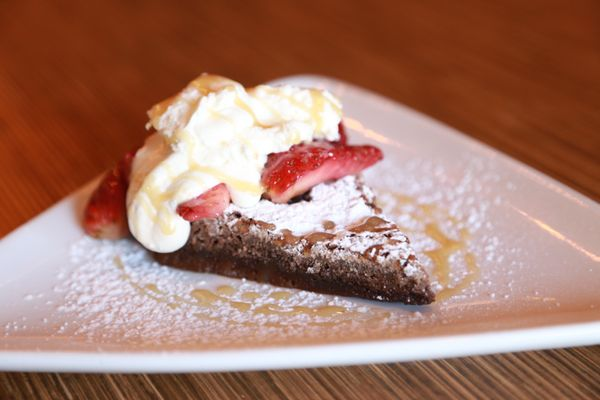curry: (4, 1, 598, 392)
sushi: (118, 72, 441, 303)
